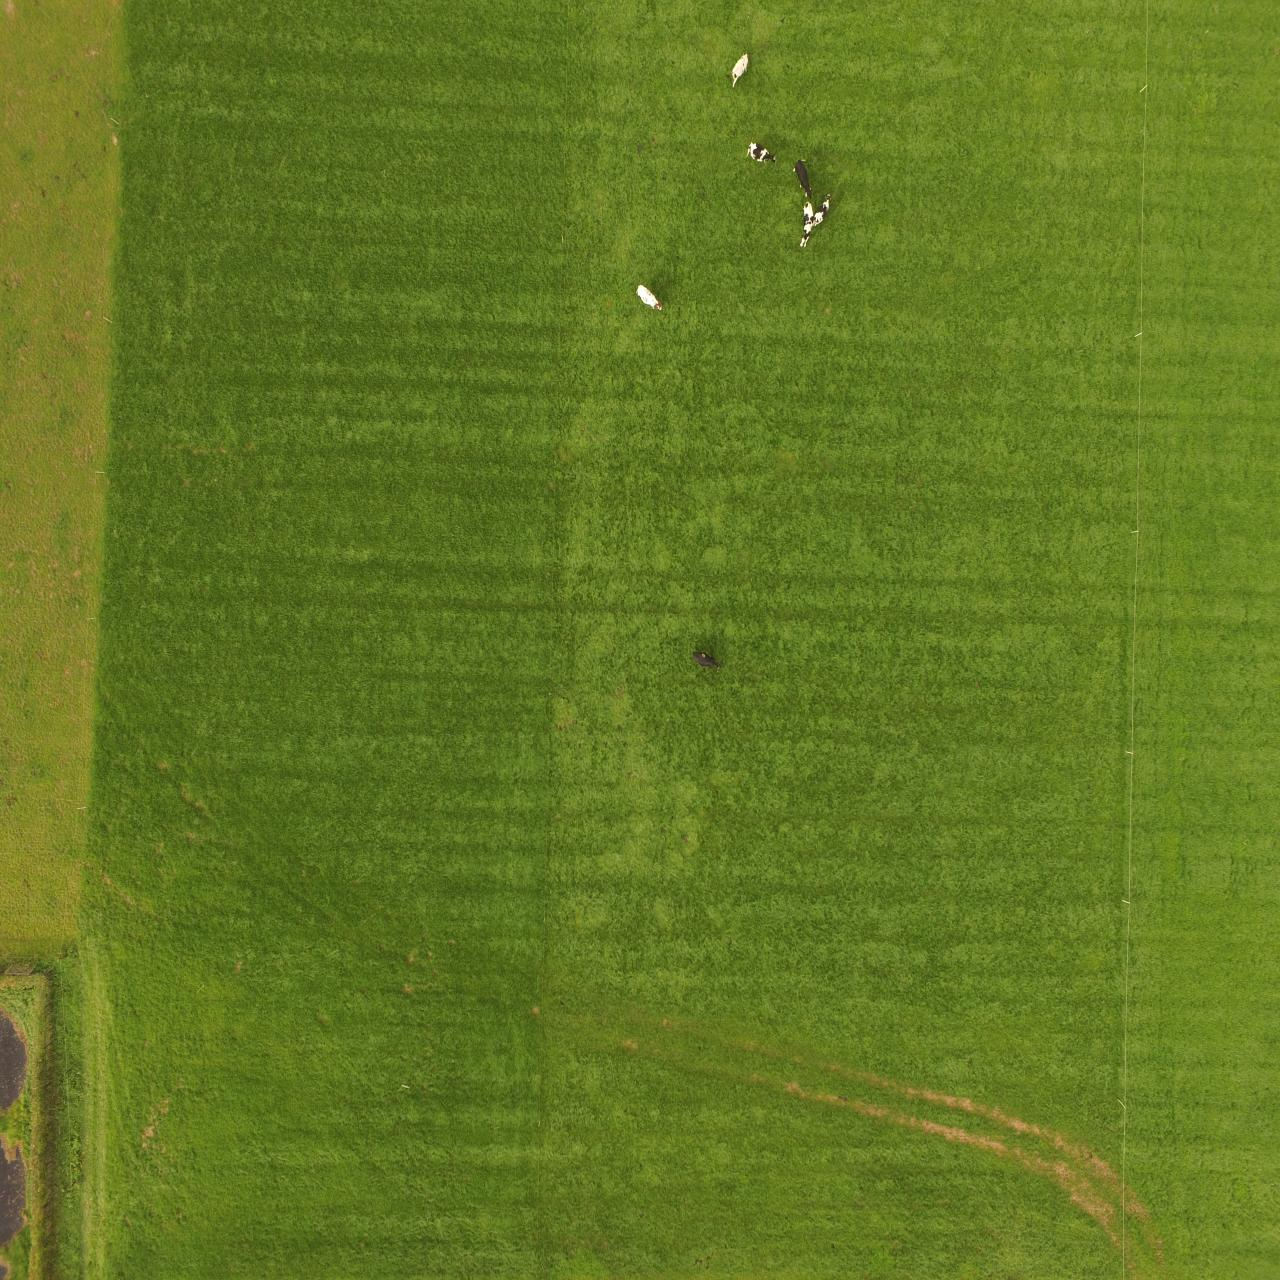cow: (790, 202, 816, 245), (633, 282, 667, 315), (791, 155, 813, 200), (726, 48, 750, 88), (741, 139, 778, 165), (815, 189, 836, 230), (690, 647, 722, 674)
